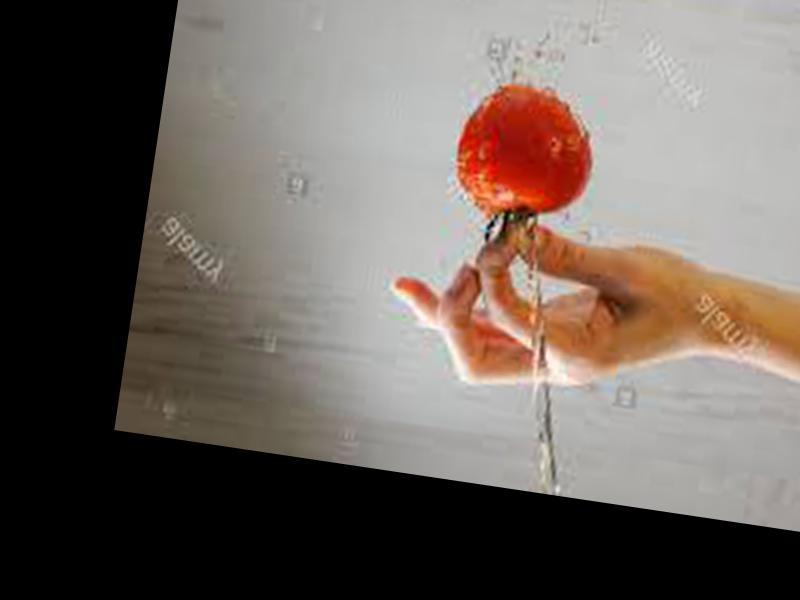Tomato: (453, 75, 605, 224)
